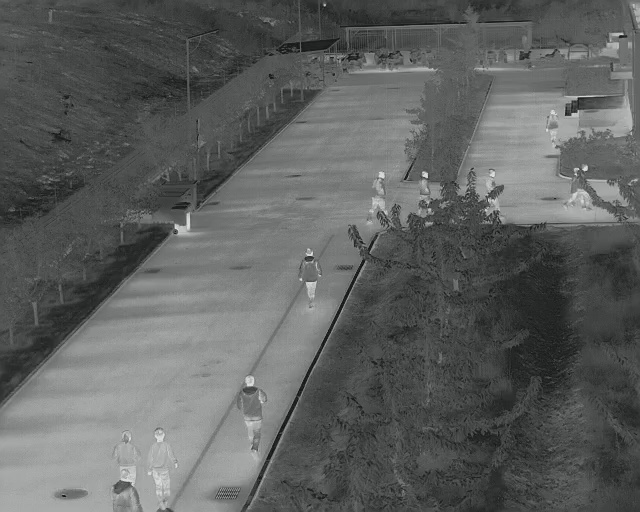person: (145, 428, 181, 510), (235, 373, 269, 457), (295, 248, 323, 307), (109, 468, 143, 509), (114, 429, 143, 470), (368, 171, 390, 219), (578, 162, 594, 211), (546, 107, 560, 147), (418, 169, 432, 204), (485, 168, 497, 197), (570, 165, 578, 205)
